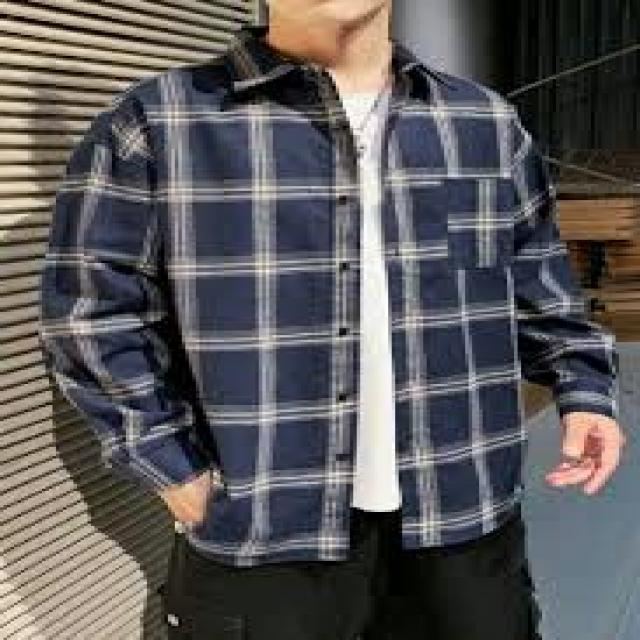plaid: (36, 58, 634, 552)
